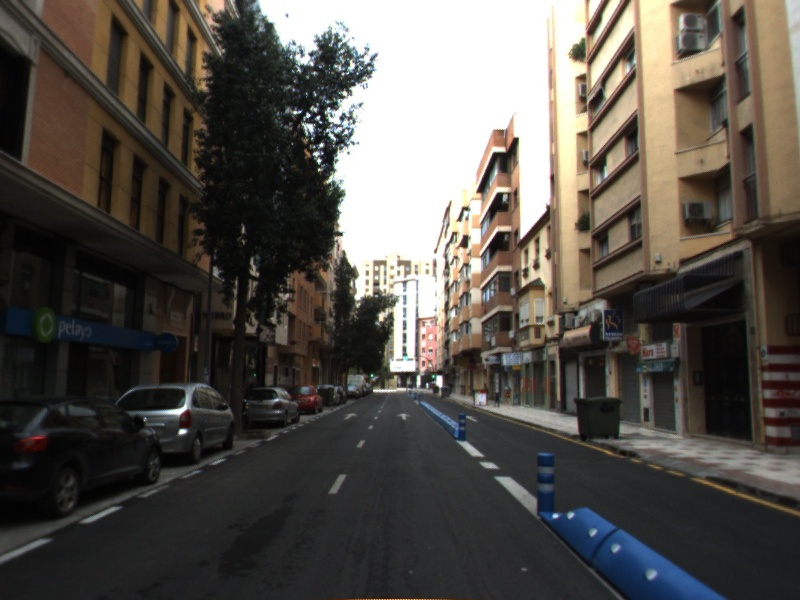STRAIGHT: (395, 411, 413, 422), (342, 411, 359, 421)
